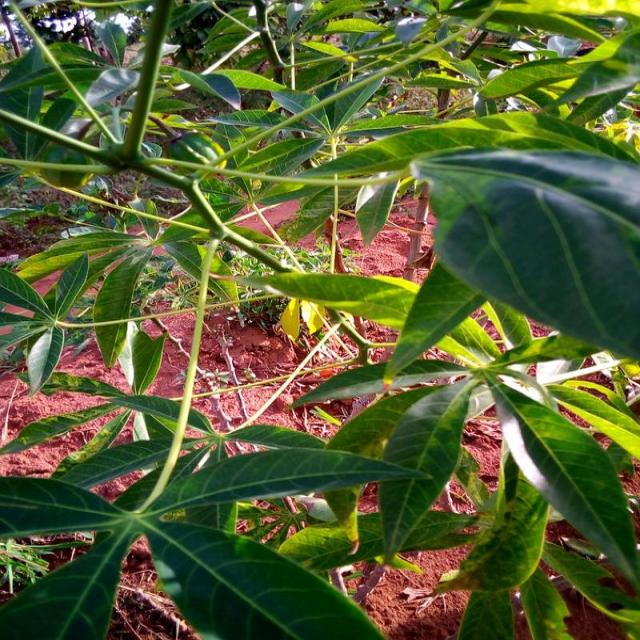cassava leaf: (1, 0, 638, 638), (412, 144, 639, 364)
